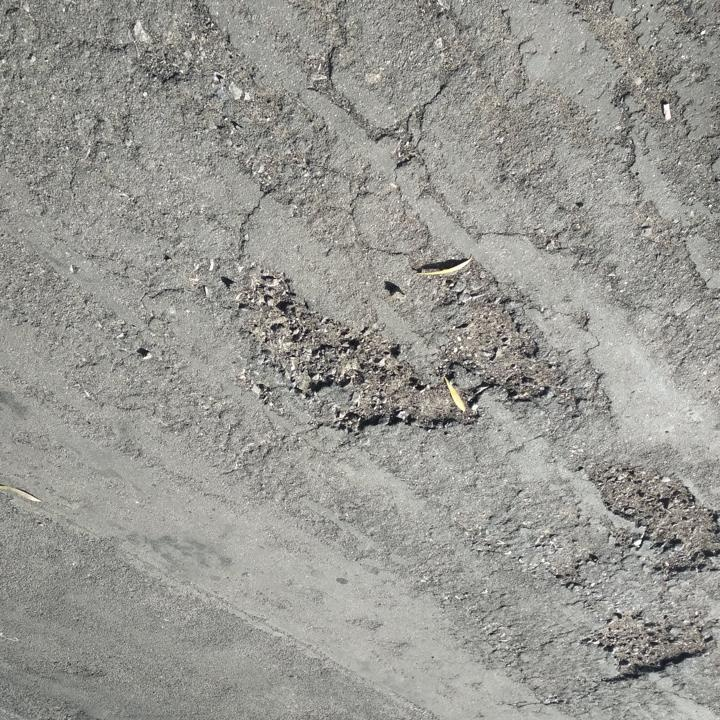pothole: (237, 255, 563, 436), (578, 458, 719, 579), (581, 606, 719, 684)
